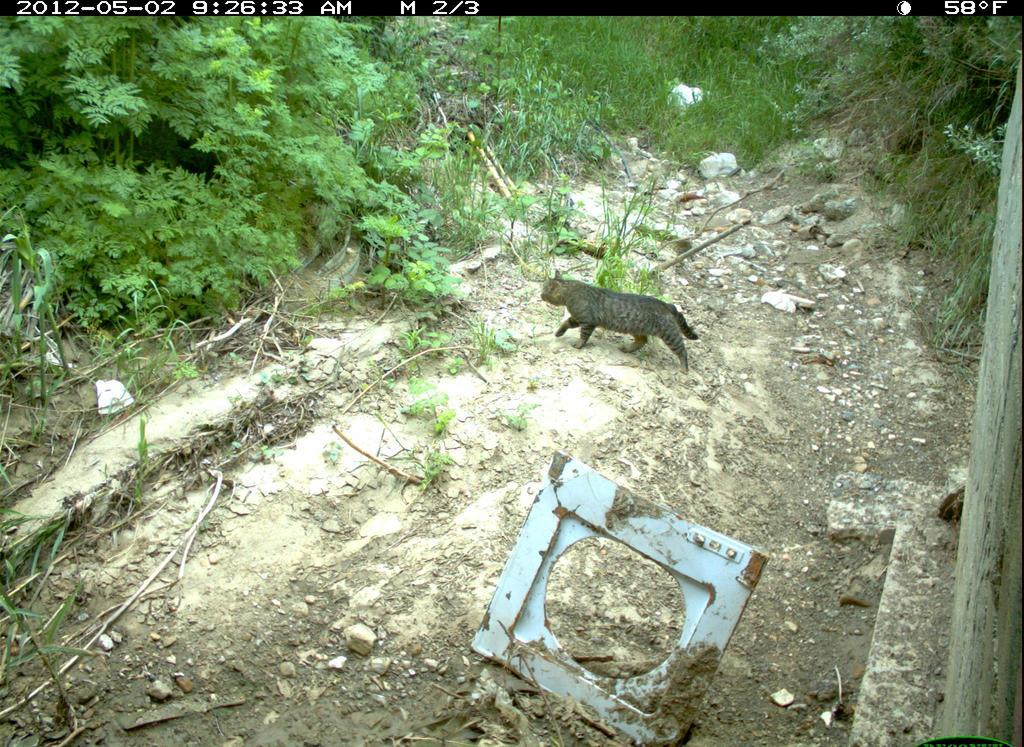cat: (539, 263, 705, 376)
